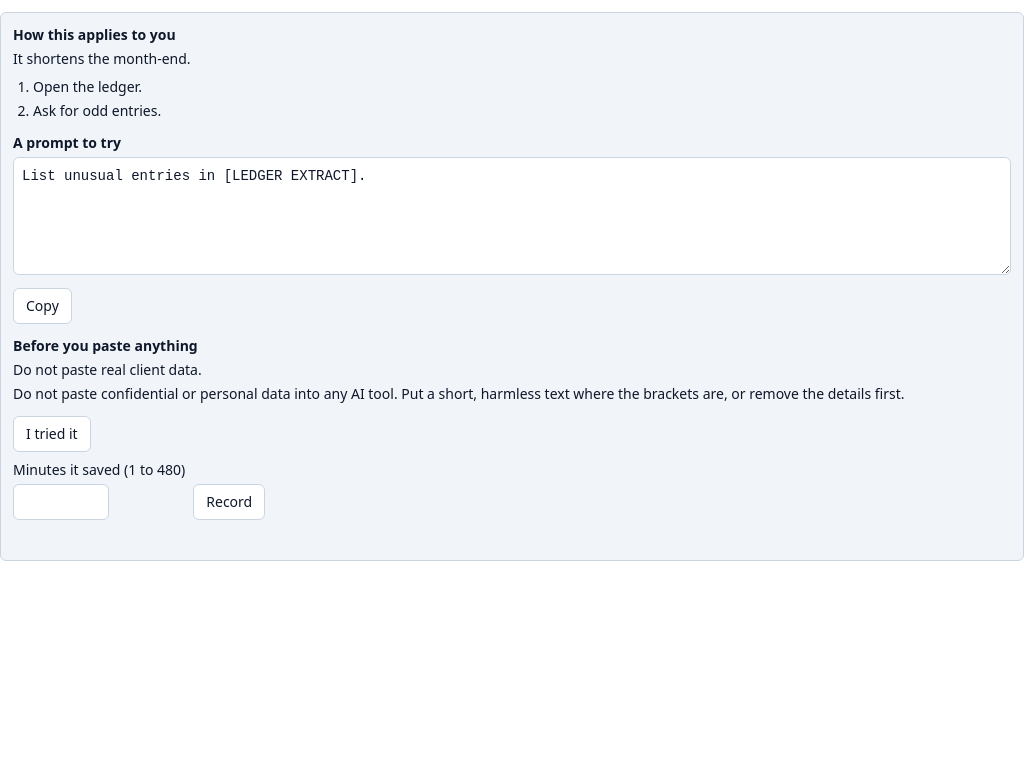
Test case: feedback › records that it was tried, once
Click the button "I tried it".
click(52, 434)  # box [13,416,91,452]
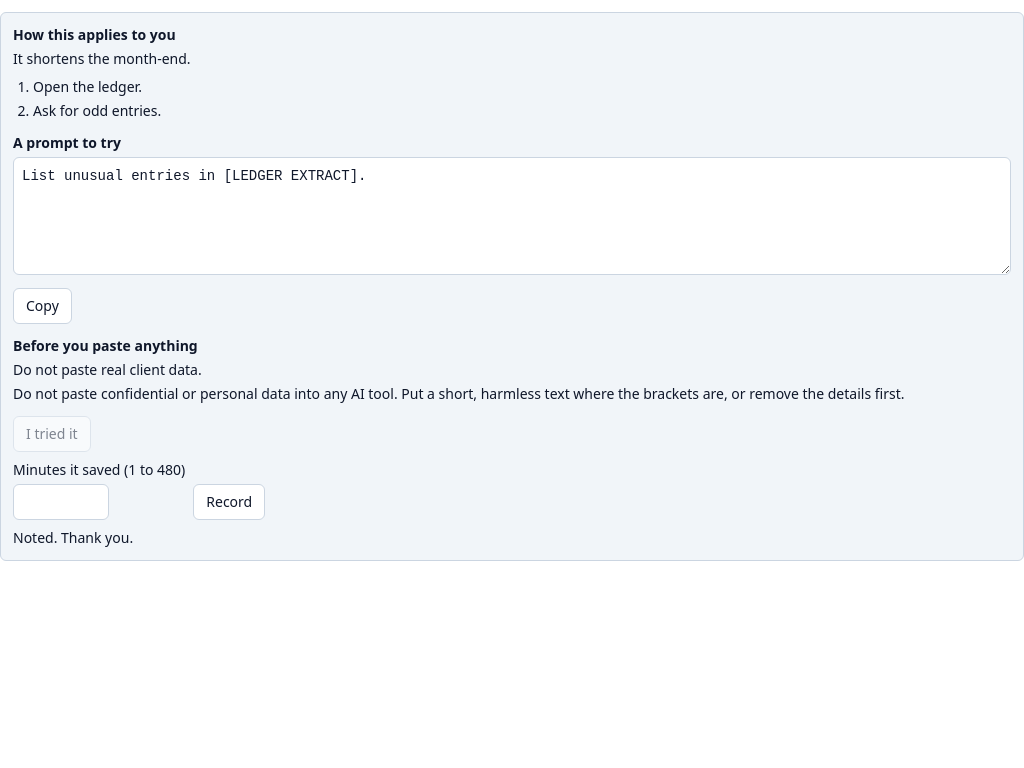
Check: the text "Noted. Thank you." is shown, box [13,528,133,547]
